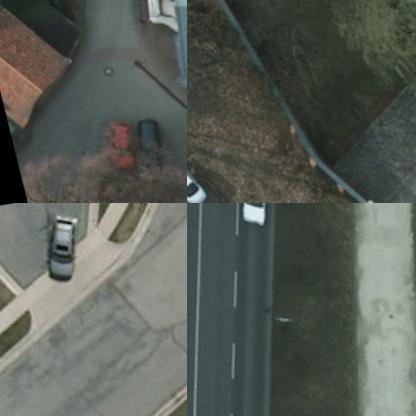car: (33, 209, 89, 282), (127, 115, 166, 175), (92, 120, 132, 174), (187, 151, 202, 202)
